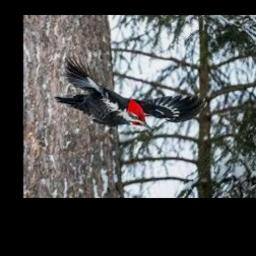Woodpecker: (56, 55, 207, 131)
